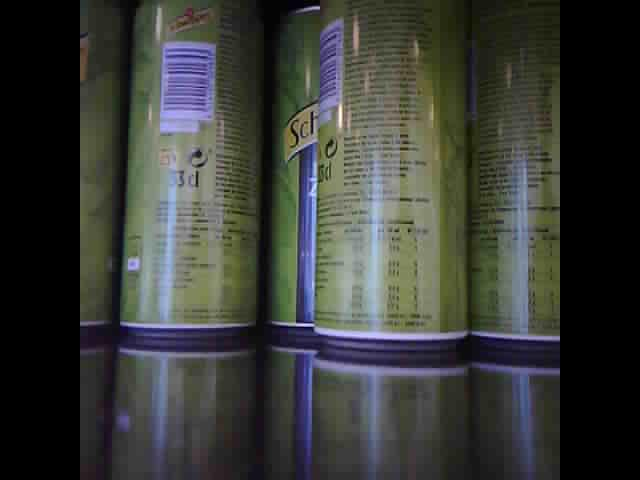schweppes: (312, 2, 469, 350), (119, 1, 261, 340), (468, 4, 559, 354), (266, 1, 322, 339), (80, 4, 124, 332)
